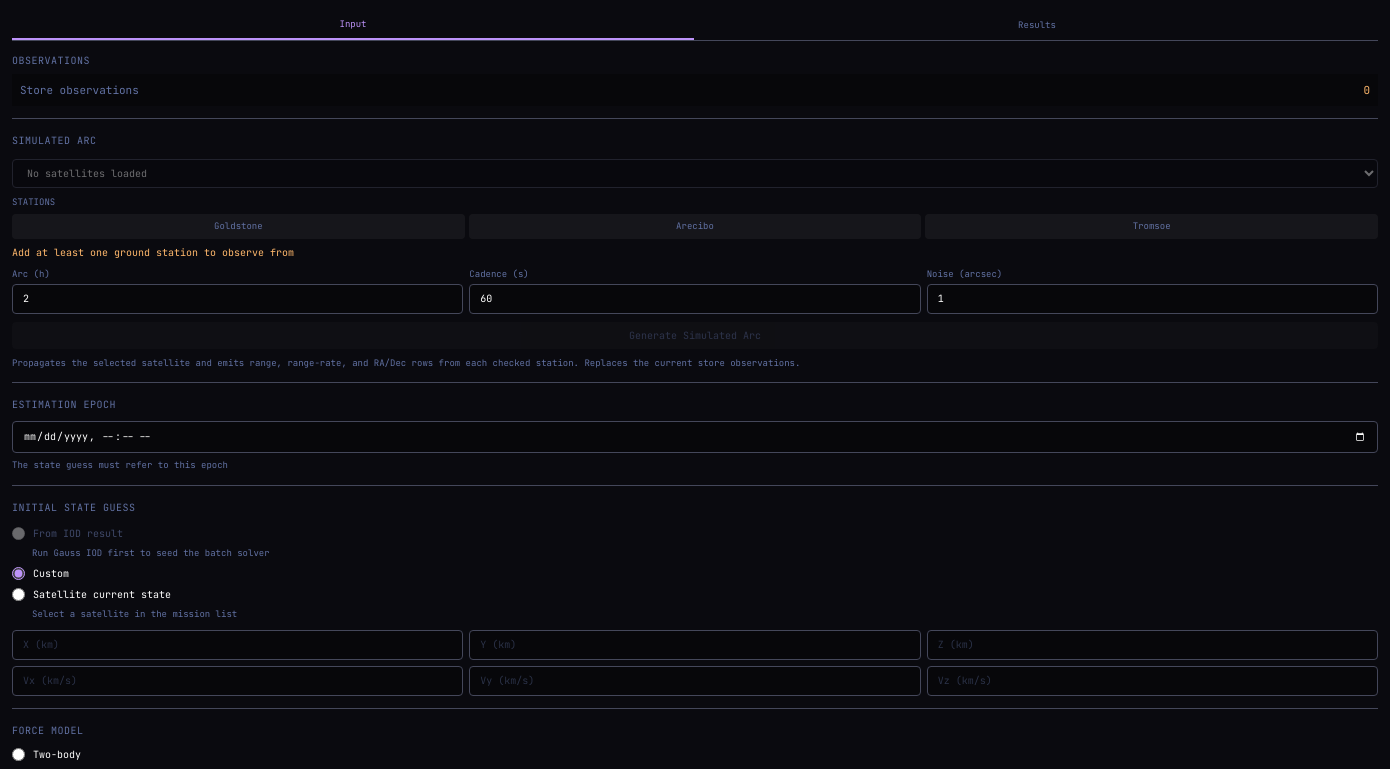
it: BatchPanel › shows the empty Results state before any solve
The image size is (1390, 769).
Click the button "Results".
click(1037, 26)  # box [696,12,1378,40]
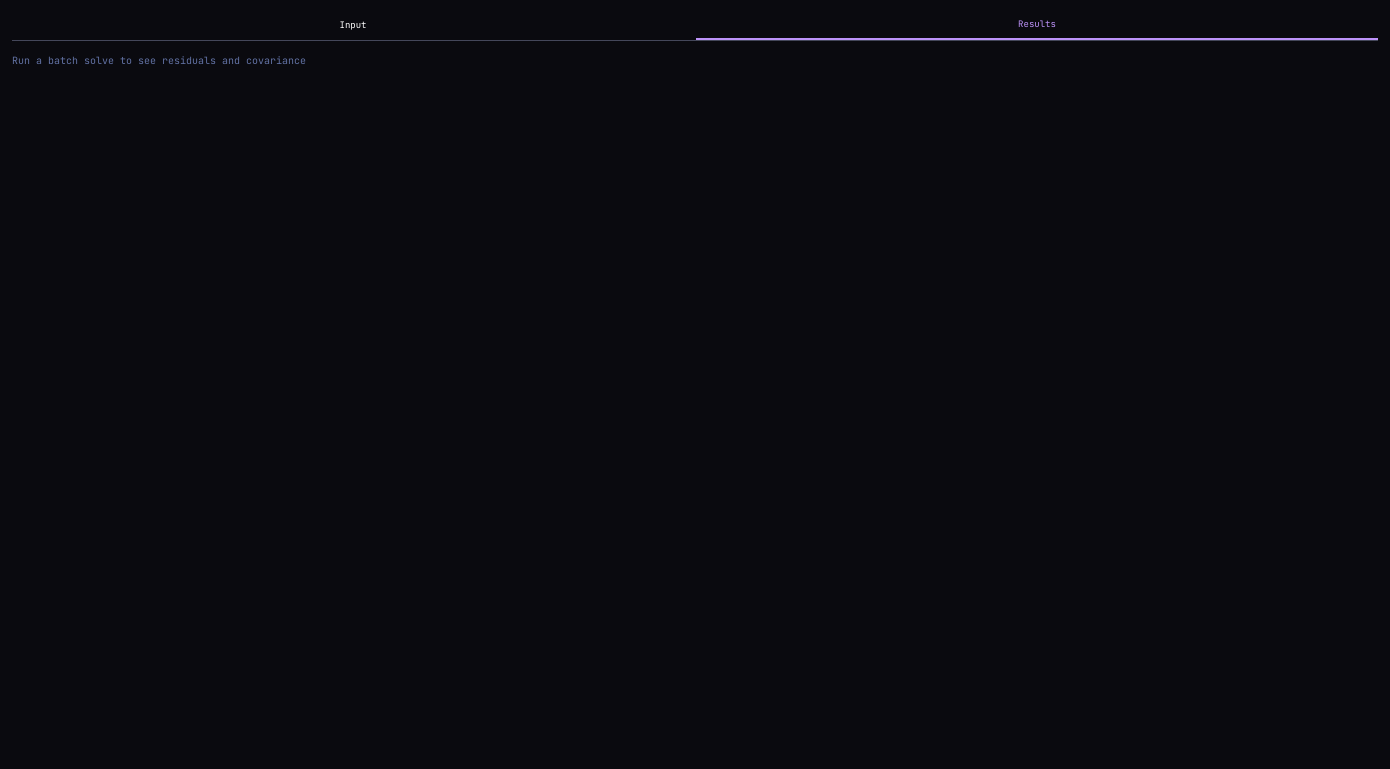
Check: the text "Run a batch solve to see residuals and covariance" is shown, box [12,54,306,66]
